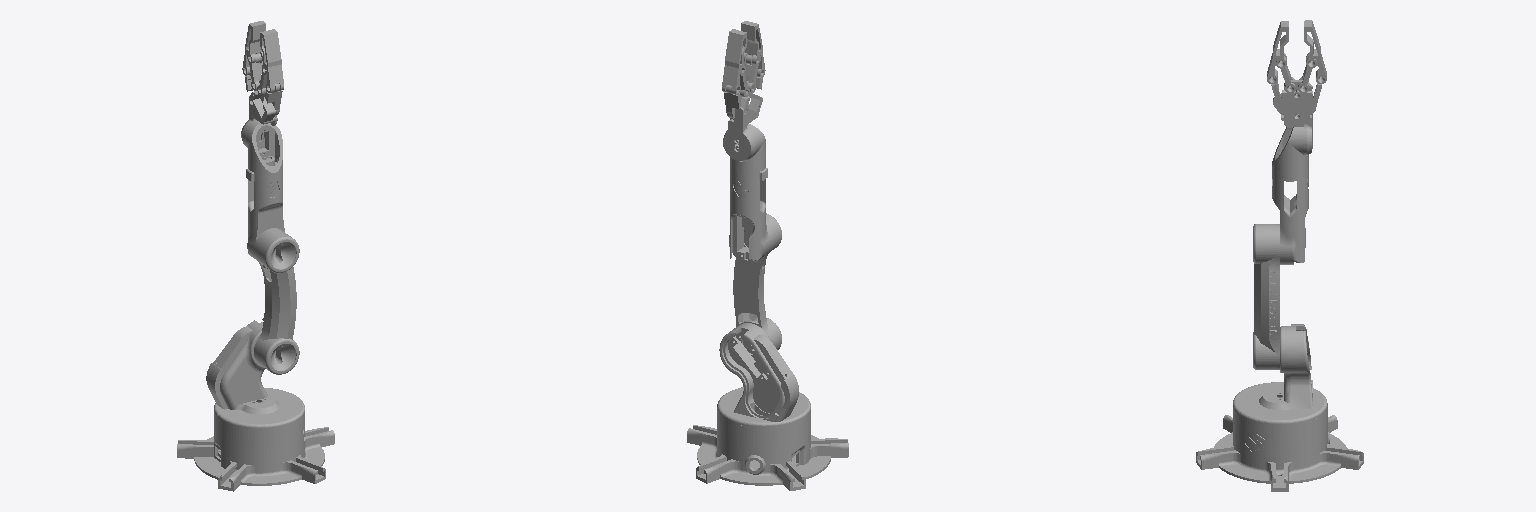
URDF robot description (cobot):
<?xml version="1.0" ?>
<robot name="cobot">

<material name="silver">
  <color rgba="0.7 0.7 0.7 1.0"/>
</material>

<link name="base_link">
  <inertial>
    <origin
      xyz="0.0010569805350138673 0.0007297344522584362 0.01829217339489528"
      rpy="0 0 0" />
    <mass
      value="0.9757252027596308" />
    <inertia
      ixx="0.001614"
      iyy="0.0017"
      izz="0.002741"
      ixy="-1.4e-05"
      iyz="-7e-06"
      ixz="-0.0" />
  </inertial>

  <visual>
    <origin
      xyz="0 0 0"
      rpy="0 0 0" />
    <geometry>
      <mesh
        filename="package://cobot_description/meshes/base_link.stl"
        scale="0.001 0.001 0.001" />
    </geometry>
    <material
      name="silver" />
  </visual>

  <collision>
    <origin
      xyz="0 0 0"
      rpy="0 0 0" />
    <geometry>
      <mesh
        filename="package://cobot_description/meshes/base_link.stl"
        scale="0.001 0.001 0.001" />
    </geometry>
  </collision>
</link>

<link name="link1">
  <inertial>
    <origin
      xyz="-0.003818008823720768 0.008441513827613 0.03204494242786362"
      rpy="0 0 0" />
    <mass
      value="0.8487763548317978" />
    <inertia
      ixx="0.000968"
      iyy="0.001205"
      izz="0.000724"
      ixy="3.4e-05"
      iyz="-0.000103"
      ixz="-7.7e-05" />
  </inertial>
  
  <visual>
    <origin
      xyz="-0.0 -0.0 -0.05675"
      rpy="0 0 0" />
    <geometry>
      <mesh
        filename="package://cobot_description/meshes/link1.stl"
        scale="0.001 0.001 0.001" />
    </geometry>
    <material
      name="silver" />
  </visual>

  <collision>
    <origin
      xyz="-0.0 -0.0 -0.05675"
      rpy="0 0 0" />
    <geometry>
      <mesh
        filename="package://cobot_description/meshes/link1.stl"
        scale="0.001 0.001 0.001" />
    </geometry>
  </collision>
</link>

<link name="link2">
  <inertial>
    <origin
      xyz="0.002214238815772403 -0.011894670876730499 0.06020229512696279"
      rpy="0 0 0" />
    <mass
      value="0.6612420873424198" />
    <inertia
      ixx="0.001921"
      iyy="0.001969"
      izz="0.000127"
      ixy="-2e-06"
      iyz="-2e-06"
      ixz="-1e-06" />
  </inertial>

  <visual>
    <origin
      xyz="-0.01392 7e-06 -0.127026"
      rpy="0 0 0" />
    <geometry>
      <mesh
        filename="package://cobot_description/meshes/link2.stl"
        scale="0.001 0.001 0.001" />
    </geometry>
    <material
      name="silver" />
  </visual>

  <collision>
    <origin
      xyz="-0.01392 7e-06 -0.127026"
      rpy="0 0 0" />
    <geometry>
      <mesh
        filename="package://cobot_description/meshes/link2.stl"
        scale="0.001 0.001 0.001" />
    </geometry>
  </collision>
</link>

<link name="link3">
  <inertial>
    <origin
      xyz="-0.0006937756215695916 0.008652145666434768 0.0409322245782118"
      rpy="0 0 0" />
    <mass
      value="0.4123818105357045" />
    <inertia
      ixx="0.000447"
      iyy="0.000468"
      izz="8.7e-05"
      ixy="2e-06"
      iyz="5e-06"
      ixz="-7e-06" />
  </inertial>

  <visual>
    <origin
      xyz="-0.013905 7e-06 -0.247026"
      rpy="0 0 0" />
    <geometry>
      <mesh
        filename="package://cobot_description/meshes/link3.stl"
        scale="0.001 0.001 0.001" />
    </geometry>
    <material name="silver" />
  </visual>

  <collision>
    <origin
      xyz="-0.013905 7e-06 -0.247026"
      rpy="0 0 0" />
    <geometry>
      <mesh
        filename="package://cobot_description/meshes/link3.stl"
        scale="0.001 0.001 0.001" />
    </geometry>
  </collision>
</link>

<link name="link4">
  <inertial>
    <origin
      xyz="-0.0002076619932401616 0.005563955264345595 0.02139744743586941"
      rpy="0 0 0" />
    <mass
      value="0.1688382109185934" />
    <inertia
      ixx="4.4e-05"
      iyy="5.8e-05"
      izz="3.2e-05"
      ixy="-0.0"
      iyz="-4e-06"
      ixz="0.0" />
  </inertial>

  <visual>
    <origin
      xyz="-0.013495 -0.010537 -0.336776"
      rpy="0 0 0" />
    <geometry>
      <mesh
        filename="package://cobot_description/meshes/link4.stl"
        scale="0.001 0.001 0.001" />
    </geometry>
    <material
      name="silver" />
  </visual>

  <collision>
    <origin
      xyz="-0.013495 -0.010537 -0.336776"
      rpy="0 0 0" />
    <geometry>
      <mesh
        filename="package://cobot_description/meshes/link4.stl"
        scale="0.001 0.001 0.001" />
    </geometry>
  </collision>
</link>

<link name="link5">
  <inertial>
    <origin
      xyz="0.0009180511930666074 -0.0026770648599710144 0.023252917458090605"
      rpy="0 0 0" />
    <mass
      value="0.17229950863980814" />
    <inertia
      ixx="9.6e-05"
      iyy="8.8e-05"
      izz="2.6e-05"
      ixy="0.0"
      iyz="1.8e-05"
      ixz="-3e-06" />
  </inertial>

  <visual>
    <origin
      xyz="-0.013547 -0.024737 -0.369276"
      rpy="0 0 0" />
    <geometry>
      <mesh
        filename="package://cobot_description/meshes/link5.stl"
        scale="0.001 0.001 0.001" />
    </geometry>
    <material
      name="silver"/>
  </visual>

  <collision>
    <origin
      xyz="-0.013547 -0.024737 -0.369276"
      rpy="0 0 0" />
    <geometry>
      <mesh
        filename="package://cobot_description/meshes/link5.stl"
        scale="0.001 0.001 0.001" />
    </geometry>
  </collision>
</link>

<link name="in_right_grip">
  <inertial>
    <origin
      xyz="-0.0006351808581316672 0.00432633092858755 0.014644586508523127"
      rpy="0 0 0" />
    <mass
      value="0.020498186106830463" />
    <inertia
      ixx="3e-06"
      iyy="3e-06"
      izz="1e-06"
      ixy="0.0"
      iyz="-1e-06"
      ixz="-0.0"/>
  </inertial>

  <visual>
    <origin
      xyz="-0.015633 -0.02405 -0.42841"
      rpy="0 0 0" />
    <geometry>
      <mesh
        filename="package://cobot_description/meshes/in_right_grip.stl"
        scale="0.001 0.001 0.001" />
    </geometry>
    <material
      name="silver" />
  </visual>

  <collision>
    <origin
      xyz="-0.015633 -0.02405 -0.42841"
      rpy="0 0 0" />
    <geometry>
      <mesh
        filename="package://cobot_description/meshes/in_right_grip.stl"
        scale="0.001 0.001 0.001" />
    </geometry>
  </collision>
</link>

<link name="in_left_grip">
  <inertial>
    <origin
      xyz="-0.0007181665729370061 -0.004855388988816466 0.014473452058062775"
      rpy="0 0 0" />
    <mass
      value="0.020498186106830463" />
    <inertia
      ixx="3e-06"
      iyy="3e-06"
      izz="1e-06"
      ixy="0.0"
      iyz="1e-06"
      ixz="0.0" />
  </inertial>

  <visual>
    <origin
      xyz="-0.015511 -0.01074 -0.428335"
      rpy="0 0 0" />
    <geometry>
      <mesh
        filename="package://cobot_description/meshes/in_left_grip.stl"
        scale="0.001 0.001 0.001" />
    </geometry>
    <material
      name="silver" />
  </visual>

  <collision>
    <origin
      xyz="-0.015511 -0.01074 -0.428335"
      rpy="0 0 0" />
    <geometry>
      <mesh
        filename="package://cobot_description/meshes/in_left_grip.stl"
        scale="0.001 0.001 0.001" />
    </geometry>
  </collision>
</link>

<link name="out_right_grip">
  <inertial>
    <origin
      xyz="0.001718746609355823 0.0060517958020296775 0.009753075365702468"
      rpy="0 0 0" />
    <mass 
      value="0.03206774948119643" />
    <inertia
      ixx="7e-06"
      iyy="5e-06"
      izz="2e-06"
      ixy="0.0"
      iyz="-2e-06"
      ixz="1e-06" />
  </inertial>

  <visual>
    <origin
      xyz="-0.016434 -0.027552 -0.407598"
      rpy="0 0 0" />
    <geometry>
      <mesh
        filename="package://cobot_description/meshes/out_right_grip.stl"
        scale="0.001 0.001 0.001" />
    </geometry>
    <material
      name="silver" />
  </visual>

  <collision>
    <origin
      xyz="-0.016434 -0.027552 -0.407598"
      rpy="0 0 0" />
    <geometry>
      <mesh
        filename="package://cobot_description/meshes/out_right_grip.stl"
        scale="0.001 0.001 0.001" />
    </geometry>
  </collision>
</link>

<link name="out_left_grip">
  <inertial>
    <origin
      xyz="0.0016870125804937762 -0.006851070724163324 0.011071981124217367"
      rpy="0 0 0" />
    <mass
      value="0.02733538421745774" />
    <inertia
      ixx="6e-06"
      iyy="5e-06"
      izz="2e-06"
      ixy="-0.0"
      iyz="2e-06"
      ixz="1e-06" />
  </inertial>

  <visual>
    <origin
      xyz="-0.016251 -0.00746 -0.407484"
      rpy="0 0 0" />
    <geometry>
      <mesh
        filename="package://cobot_description/meshes/out_left_grip.stl"
        scale="0.001 0.001 0.001" />
    </geometry>
    <material
      name="silver" />
  </visual>

  <collision>
    <origin
      xyz="-0.016251 -0.00746 -0.407484"
      rpy="0 0 0" />
    <geometry>
      <mesh
        filename="package://cobot_description/meshes/out_left_grip.stl"
        scale="0.001 0.001 0.001" />
    </geometry>
  </collision>
</link>

<link name="left_gripper">
  <inertial>
    <origin
      xyz="-0.0007973268186895303 0.006294598773784492 0.029093411847490813"
      rpy="0 0 0" />
    <mass
      value="0.0574367398539114" />
    <inertia
      ixx="2e-05"
      iyy="1.9e-05"
      izz="3e-06"
      ixy="0.0"
      iyz="-4e-06"
      ixz="0.0" />
  </inertial>

  <visual>
    <origin
      xyz="-0.015316 0.007935 -0.438489"
      rpy="0 0 0" />
    <geometry>
      <mesh
        filename="package://cobot_description/meshes/left_gripper.stl"
        scale="0.001 0.001 0.001" />
    </geometry>
    <material
      name="silver" />
  </visual>

  <collision>
    <origin
      xyz="-0.015316 0.007935 -0.438489"
      rpy="0 0 0" />
    <geometry>
      <mesh
        filename="package://cobot_description/meshes/left_gripper.stl"
        scale="0.001 0.001 0.001" />
    </geometry>
  </collision>
</link>

<link name="right_gripper">
  <inertial>
    <origin
      xyz="-0.0006522798682768623 -0.006645060979379405 0.02916261432592454"
      rpy="0 0 0" />
    <mass
      value="0.05715084388035935" />
    <inertia
      ixx="1.9e-05"
      iyy="1.9e-05"
      izz="3e-06"
      ixy="-0.0"
      iyz="4e-06"
      ixz="0.0" />
  </inertial>

  <visual>
    <origin
      xyz="-0.015503 -0.042612 -0.438775"
      rpy="0 0 0" />
    <geometry>
      <mesh
        filename="package://cobot_description/meshes/right_gripper.stl"
        scale="0.001 0.001 0.001" />
    </geometry>
    <material
      name="silver" />
  </visual>

  <collision>
    <origin
      xyz="-0.015503 -0.042612 -0.438775"
      rpy="0 0 0" />
    <geometry>
      <mesh
        filename="package://cobot_description/meshes/right_gripper.stl"
        scale="0.001 0.001 0.001" />
    </geometry>
  </collision>
</link>

<joint name="joint_base_link_to_link1" type="continuous">
  <origin xyz="0.0 0.0 0.05675" rpy="0 0 0"/>
  <parent link="base_link"/>
  <child link="link1"/>
  <axis xyz="-0.0 -0.0 1.0"/>
</joint>

<joint name="joint_link1_to_link2" type="continuous">
  <origin xyz="0.01392 -7e-06 0.070276" rpy="0 0 0"/>
  <parent link="link1"/>
  <child link="link2"/>
  <axis xyz="-0.000506 -1.0 -0.0"/>
</joint>

<joint name="joint_link2_to_link3" type="continuous">
  <origin xyz="-1.5e-05 0.0 0.12" rpy="0 0 0"/>
  <parent link="link2"/>
  <child link="link3"/>
  <axis xyz="0.000506 1.0 0.0"/>
</joint>

<joint name="joint_link3_to_link4" type="continuous">
  <origin xyz="-0.00041 0.010544 0.08975" rpy="0 0 0"/>
  <parent link="link3"/>
  <child link="link4"/>
  <axis xyz="-0.0024 1e-06 0.999997"/>
</joint>

<joint name="joint_link4_to_link5" type="continuous">
  <origin xyz="5.2e-05 0.0142 0.0325" rpy="0 0 0"/>
  <parent link="link4"/>
  <child link="link5"/>
  <axis xyz="0.009166 0.999958 2.1e-05"/>
</joint>

<joint name="joint_link5_to_in_right_grip" type="continuous">
  <origin xyz="0.002086 -0.000687 0.059134" rpy="0 0 0"/>
  <parent link="link5"/>
  <child link="in_right_grip"/>
  <axis xyz="-0.999947 0.009166 -0.004789"/>
</joint>

<joint name="joint_link5_to_in_left_grip" type="continuous">
  <origin xyz="0.001964 -0.013997 0.059059" rpy="0 0 0"/>
  <parent link="link5"/>
  <child link="in_left_grip"/>
  <axis xyz="-0.999947 0.009166 -0.004789"/>
</joint>

<joint name="joint_link5_to_out_right_grip" type="continuous">
  <origin xyz="0.002887 0.002815 0.038322" rpy="0 0 0"/>
  <parent link="link5"/>
  <child link="out_right_grip"/>
  <axis xyz="0.999947 -0.009166 0.004789"/>
</joint>

<joint name="joint_link5_to_out_left_grip" type="continuous">
  <origin xyz="0.002704 -0.017277 0.038208" rpy="0 0 0"/>
  <parent link="link5"/>
  <child link="out_left_grip"/>
  <axis xyz="0.999947 -0.009166 0.004789"/>
</joint>

<joint name="joint_out_left_grip_to_left_gripper" type="continuous">
  <origin xyz="-0.000935 -0.015395 0.031005" rpy="0 0 0"/>
  <parent link="out_left_grip"/>
  <child link="left_gripper"/>
  <axis xyz="-0.999947 0.009166 -0.004789"/>
</joint>

<joint name="joint_out_right_grip_to_right_gripper" type="continuous">
  <origin xyz="-0.000931 0.01506 0.031177" rpy="0 0 0"/>
  <parent link="out_right_grip"/>
  <child link="right_gripper"/>
  <axis xyz="-0.999947 0.009166 -0.004789"/>
</joint>

</robot>

--- Render facts (derived) ---
Views: 3 orthographic renders of the robot side by side, from view 1: azimuth 30°, elevation 25°; view 2: azimuth 150°, elevation 25°; view 3: azimuth 270°, elevation 25°.
Model cobot with 12 links and 11 joints (11 continuous), rooted at base_link, posed every joint at zero.
Visible links, largest first — view 1: base_link, link1, link2, link3, link4, left_gripper, link5, right_gripper; view 2: base_link, link1, link3, link2, link5, right_gripper, link4, left_gripper; view 3: base_link, link1, link2, link3, link4, link5, right_gripper, left_gripper.
Boxes of the visible links, x1,y1,x2,y2 form: base_link: (177,414,334,491); link1: (206,318,304,429); link2: (254,228,299,374); link3: (246,162,284,259); link4: (243,120,282,173); left_gripper: (260,29,283,92); link5: (241,79,277,144); right_gripper: (242,21,265,75); base_link: (687,410,848,490); link1: (717,323,810,427); link3: (729,168,769,263); link2: (733,213,781,360); link5: (723,81,762,160); right_gripper: (722,29,746,94); link4: (730,124,765,173); left_gripper: (741,21,765,77); base_link: (1196,407,1363,491); link1: (1233,324,1327,425); link2: (1253,224,1279,369); link3: (1272,166,1308,264); link4: (1272,127,1308,172); link5: (1273,80,1312,154); right_gripper: (1304,20,1326,83); left_gripper: (1267,21,1288,83).
Size in the robot's own frame: 0.1646 by 0.1729 by 0.4981 metres.
Meshes: 12 distinct files referenced, 12 mesh visuals loaded (12 binary STL).